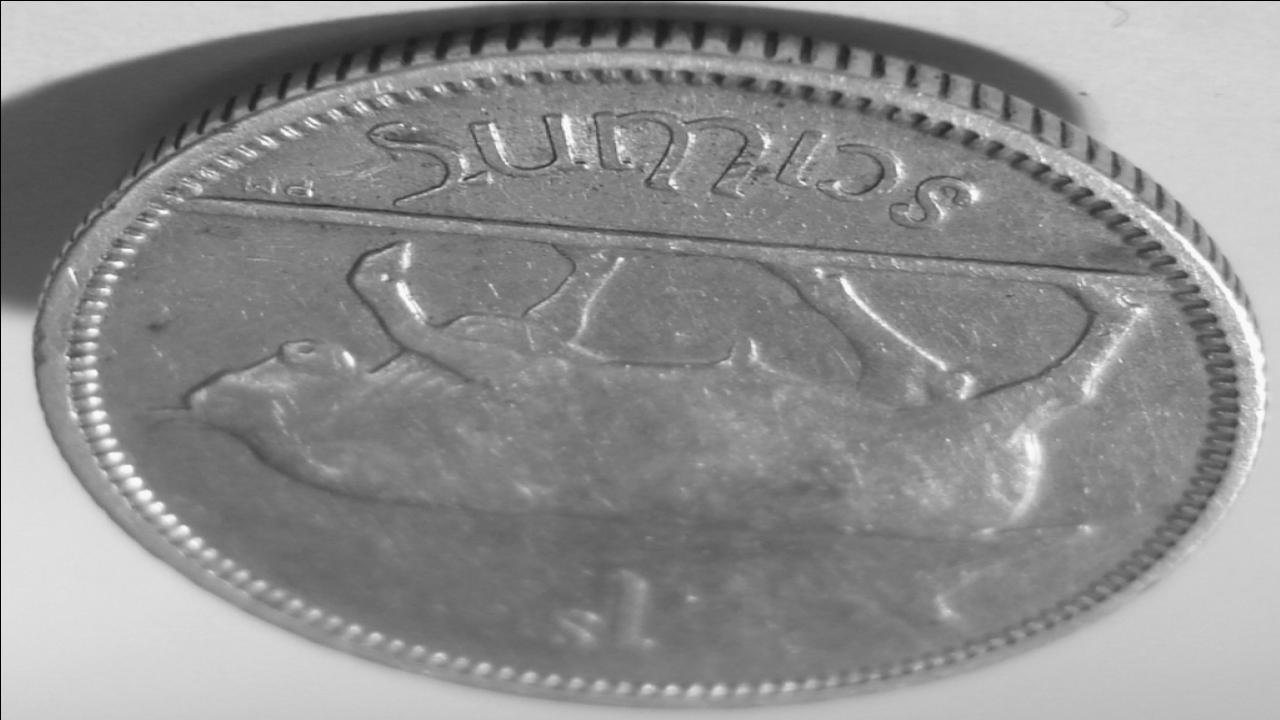coin: (30, 11, 1266, 708)
